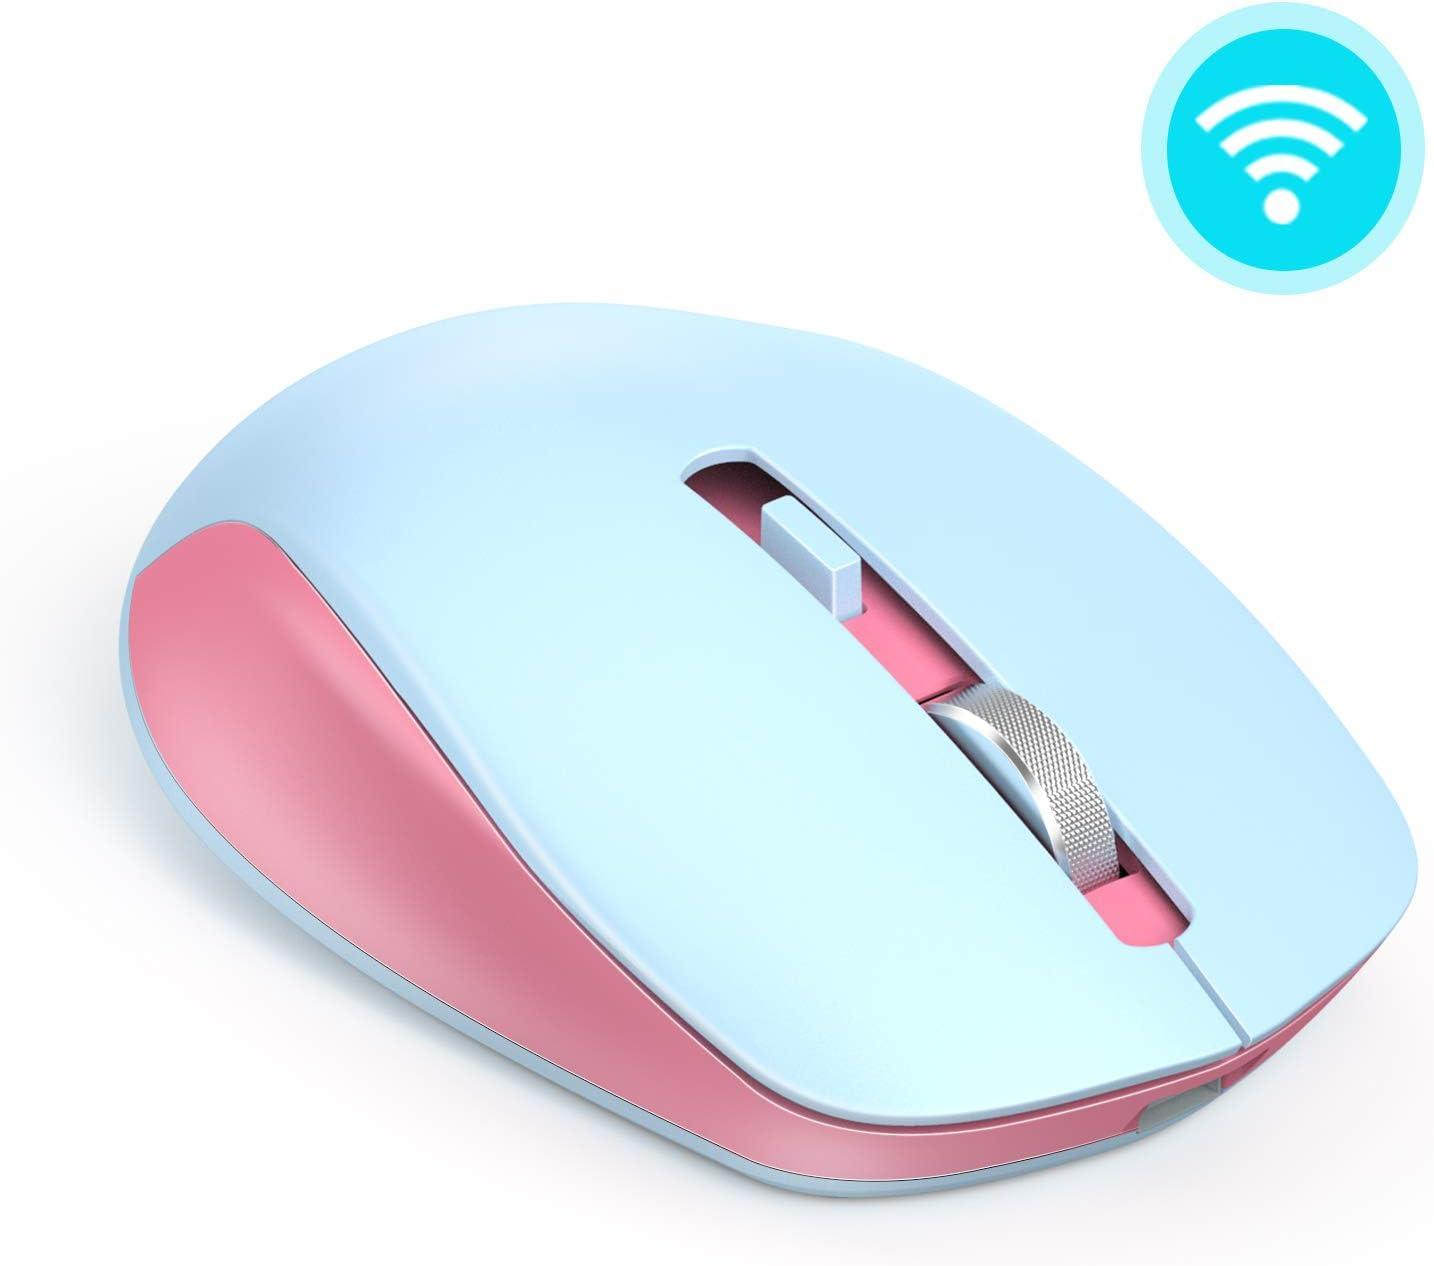computer mouse: (116, 303, 1421, 1206)
